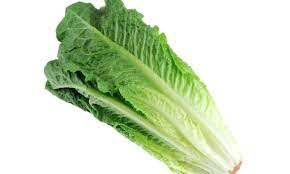lettuce: (46, 1, 254, 174)
